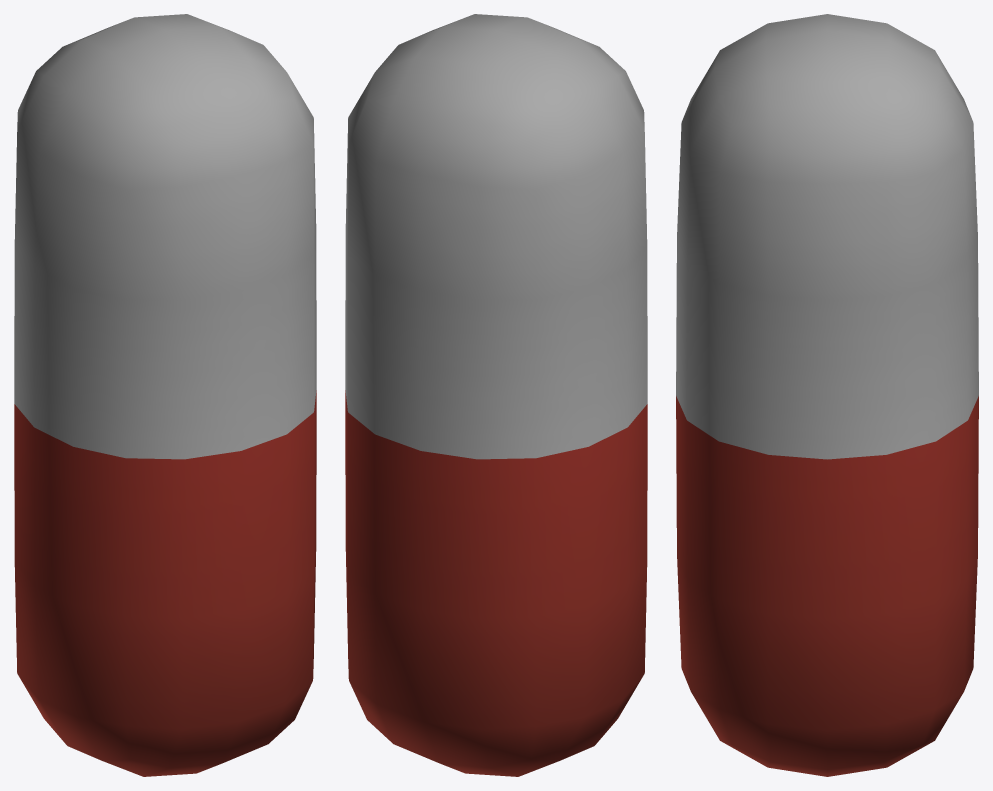
File: RedPill.fbx
3 views of the same model, side by side, from view 1: azimuth 30°, elevation 25°; view 2: azimuth 150°, elevation 25°; view 3: azimuth 270°, elevation 25° (orthographic).
Visible parts, largest first — view 1: RedPill; view 2: RedPill; view 3: RedPill.
Part boxes in pixels (left/top/right/bottom): RedPill: left=14, top=14, right=316, bottom=776; RedPill: left=345, top=14, right=647, bottom=776; RedPill: left=676, top=14, right=978, bottom=776.
Size of the model in its own units: 89.93 by 239 by 89.93.
